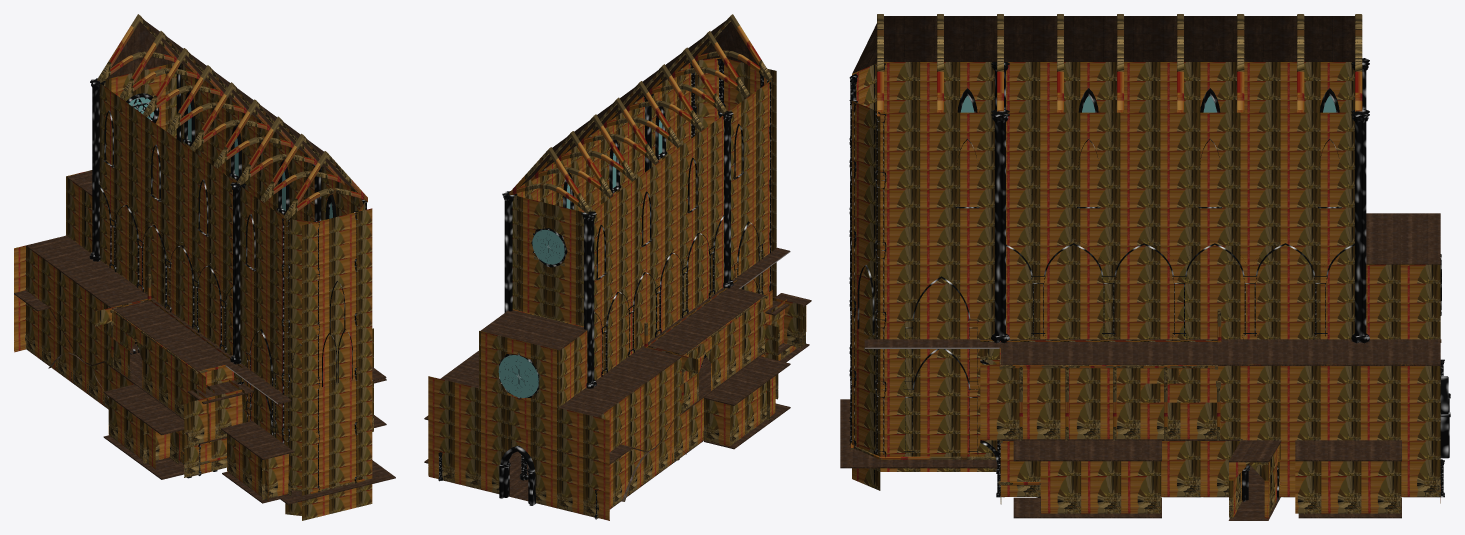
Rendered from CathedralHall.fbx.
The picture shows the model from 3 angles, left to right: view 1: azimuth 30°, elevation 25°; view 2: azimuth 150°, elevation 25°; view 3: azimuth 270°, elevation 25°; orthographic projection. The views are drawn at different scales.
Visible parts, largest first — view 1: MainHall; view 2: MainHall; view 3: MainHall.
Boxes of the visible parts, x1,y1,x2,y2 form: MainHall: (14,14,395,520); MainHall: (424,14,811,520); MainHall: (840,14,1450,520).
Bounding box in the file's own units: 37.6 × 54.84 × 67.1.
